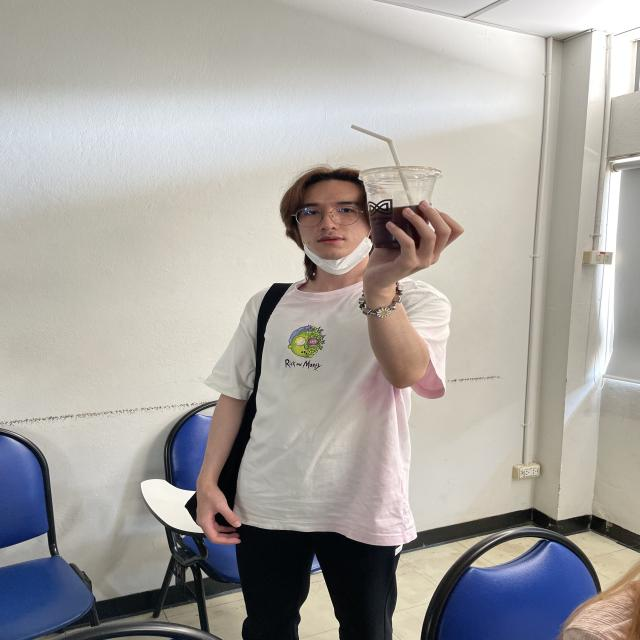cup: (358, 166, 443, 250)
